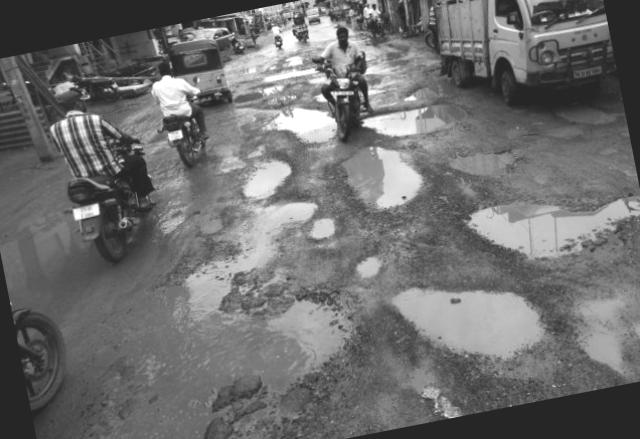Pothole: (0, 116, 347, 439), (380, 247, 560, 390), (450, 172, 640, 275), (547, 268, 640, 395), (353, 81, 476, 155), (250, 85, 358, 166), (341, 126, 428, 220), (440, 130, 523, 190), (394, 53, 472, 109), (237, 150, 313, 204), (552, 98, 628, 150), (248, 52, 337, 94)
